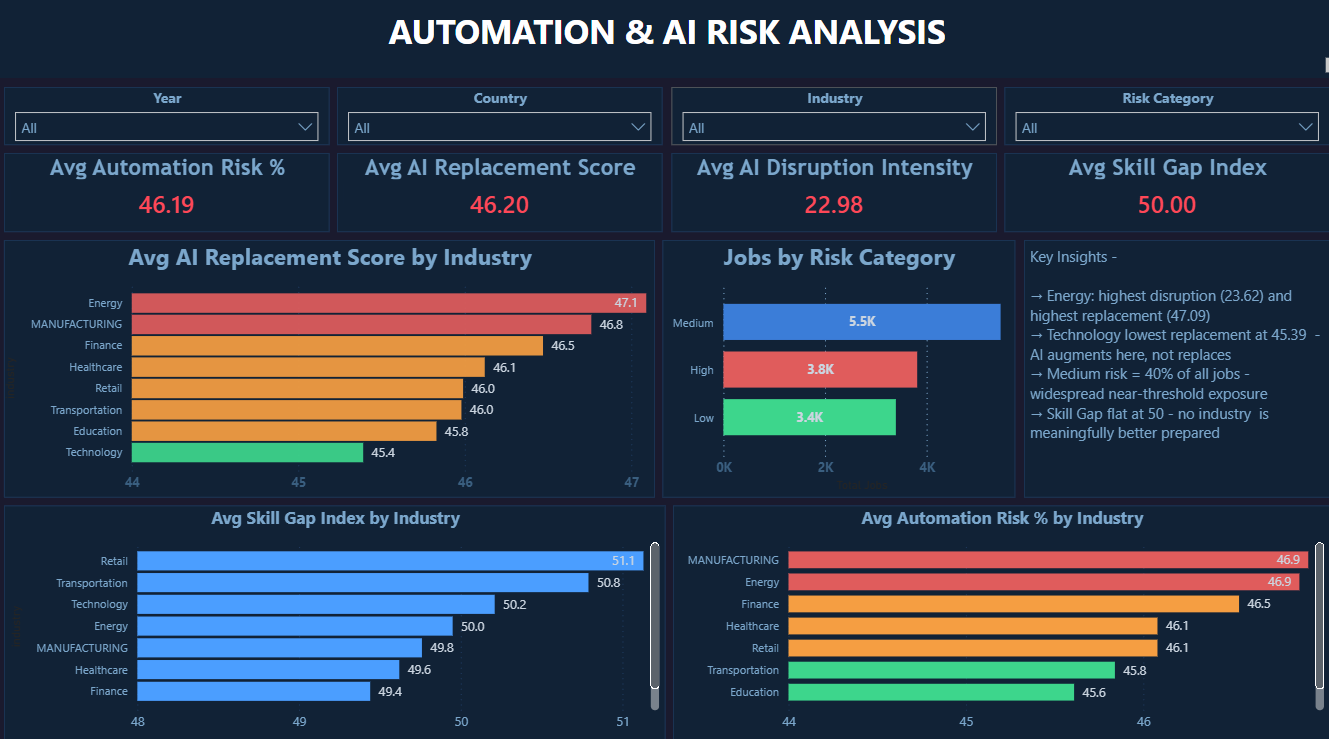

This screenshot's page, from the dashboard's own definition file:
{"tool":"powerbi","page":{"name":"AI Risk Analysis","canvas":[1280,720],"ordinal":1},"visuals":[{"type":"shape","box":[0,0,1280,143.3],"z":0,"group":"g1"},{"type":"cardVisual","title":"Avg Automation Risk %","fields":{"Data":["Measures Table.Avg Automation Risk %"]},"box":[0,248.3,333.3,96.7],"z":0},{"type":"textbox","box":[300,0,681.7,138.6],"z":1000,"group":"g1"},{"type":"tableEx","title":"Top 5 Industries by AI Disruption","fields":{"Values":["ai_jobs_dirty.industry","Measures Table.Avg Disruption","Measures Table.Avg AI Replacement Score"]},"box":[0,547.1,403.7,173.6],"z":1000},{"type":"cardVisual","title":"Avg AI Replacement Score","fields":{"Data":["Measures Table.Avg AI Replacement Score"]},"box":[346.7,248.3,283.3,96.7],"z":2000},{"type":"lineChart","title":" Avg Skill Gap by Industry","fields":{"Category":["ai_jobs_dirty.industry"],"Y":["Measures Table.Avg Skill Gap Index"]},"box":[414.2,547.1,865.3,173.6],"z":3000},{"type":"cardVisual","title":"Avg AI Disruption Intensity","fields":{"Data":["Measures Table.Avg Disruption"]},"box":[650,248.3,333.3,96.7],"z":4000},{"type":"clusteredColumnChart","title":" Avg AI Replacement Score by Industry","fields":{"Category":["ai_jobs_dirty.industry"],"Y":["Measures Table.Avg AI Replacement Score"]},"box":[0,360,885.7,171.4],"z":5000},{"type":"barChart","title":"Jobs by Risk Category","fields":{"Category":["ai_jobs_dirty.automation_risk_category"],"Series":["ai_jobs_dirty.automation_risk_category"],"Y":["Measures Table.Total Jobs"]},"box":[895.7,360,384.3,171.4],"z":6000},{"type":"cardVisual","title":"Avg Skill Gap Index","fields":{"Data":["Measures Table.Avg Skill Gap Index"]},"box":[996.7,248.3,283.3,96.7],"z":7000},{"type":"group","id":"g1","title":"Group 2","box":[0,0,1280,143.3],"z":8000},{"type":"slicer","title":"Year","fields":{"Values":["ai_jobs_dirty.year"]},"box":[0,148.3,333.3,85],"z":9000},{"type":"slicer","title":"Country","fields":{"Values":["ai_jobs_dirty.country"]},"box":[348.3,150,283.3,83.3],"z":10000},{"type":"slicer","title":"Job Role","fields":{"Values":["ai_jobs_dirty.job_role"]},"box":[648.3,148.3,331.7,85],"z":11000},{"type":"slicer","title":"Risk Category","fields":{"Values":["ai_jobs_dirty.automation_risk_category"]},"box":[996.7,148.3,283.3,85],"z":12000}]}

Visuals, with their boxes in screenshot pixels (x1, y1, x2, y2), scaled from the page's 1280x720 canvas onto the 1329x739 screenshot:
shape: box=[0, 0, 1328, 147]
"Avg Automation Risk %" cardVisual: box=[0, 255, 346, 354]
textbox: box=[311, 0, 1019, 142]
"Top 5 Industries by AI Disruption" tableEx: box=[0, 562, 419, 738]
"Avg AI Replacement Score" cardVisual: box=[360, 255, 654, 354]
" Avg Skill Gap by Industry" lineChart: box=[430, 562, 1328, 738]
"Avg AI Disruption Intensity" cardVisual: box=[675, 255, 1021, 354]
" Avg AI Replacement Score by Industry" clusteredColumnChart: box=[0, 369, 920, 545]
"Jobs by Risk Category" barChart: box=[930, 369, 1328, 545]
"Avg Skill Gap Index" cardVisual: box=[1035, 255, 1328, 354]
"Group 2" group: box=[0, 0, 1328, 147]
"Year" slicer: box=[0, 152, 346, 239]
"Country" slicer: box=[362, 154, 656, 239]
"Job Role" slicer: box=[673, 152, 1018, 239]
"Risk Category" slicer: box=[1035, 152, 1328, 239]
